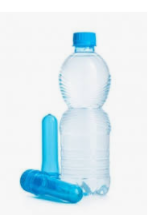Bottle: (59, 32, 110, 195)
